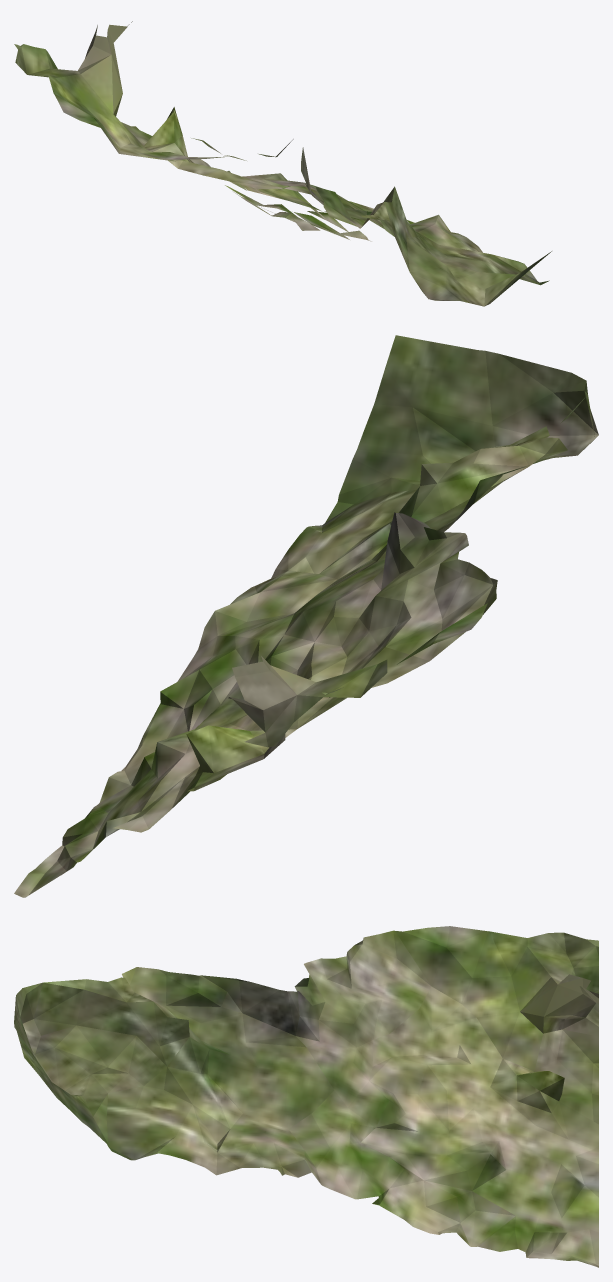
3 renders of one model, top to bottom at view 1: azimuth 30°, elevation 25°; view 2: azimuth 150°, elevation 25°; view 3: azimuth 270°, elevation 25°, orthographic. The views are drawn at different scales.
Size of the model in its own units: 10.19 by 7.63 by 19.12.
1 material, 1 textured.
